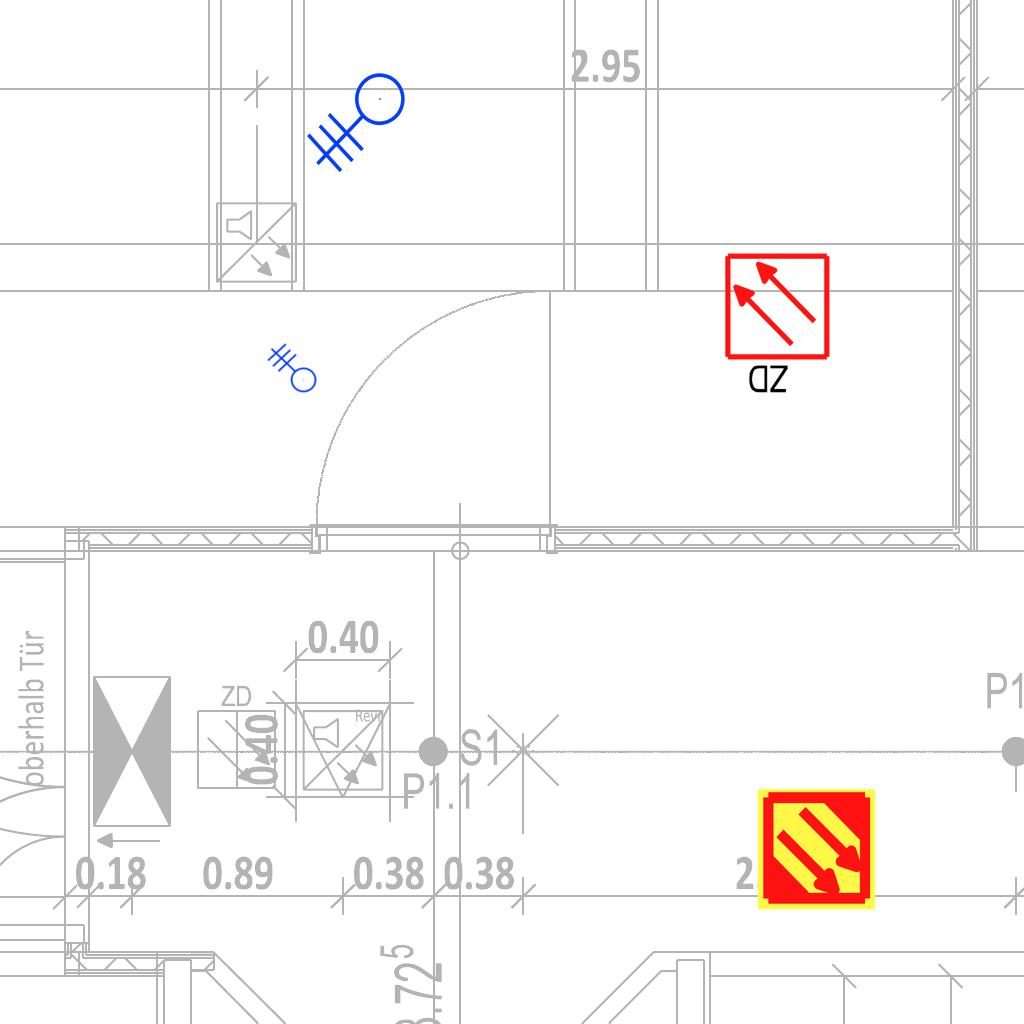ASR_Ansaugrauchmelder: (754, 787, 879, 912)
Elektroanschluss_allgemein_400V_Geraeteanschlussdose_400V: (306, 72, 422, 185), (261, 343, 317, 401)
ZD_Melder_in_Zwischendecke_mit_Revisionsoeffnung_mind_40_x_40_cm: (722, 251, 836, 400)
